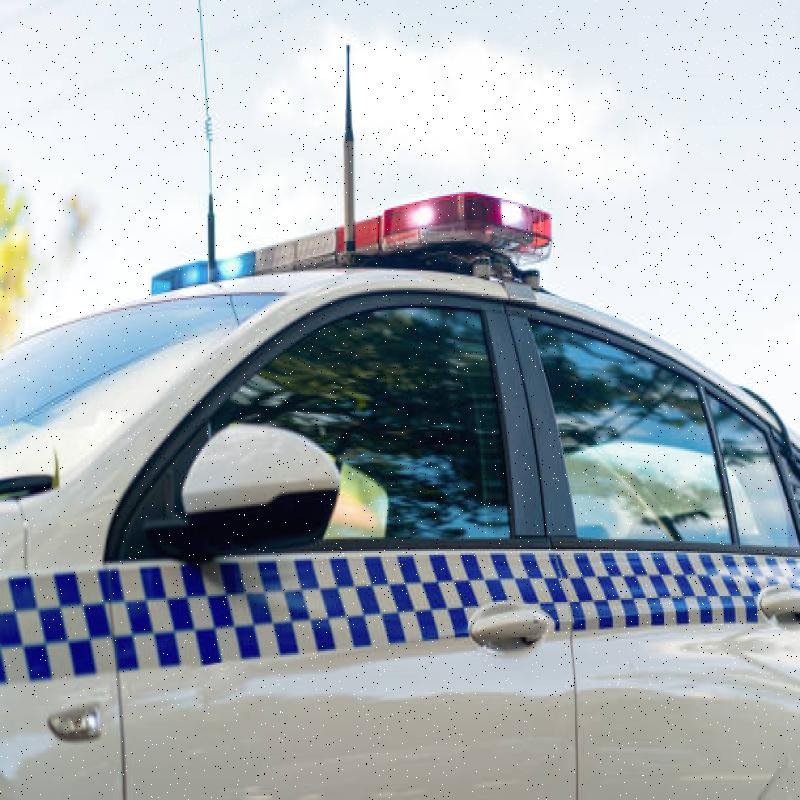AmbulanceSiren: (124, 168, 551, 287)
